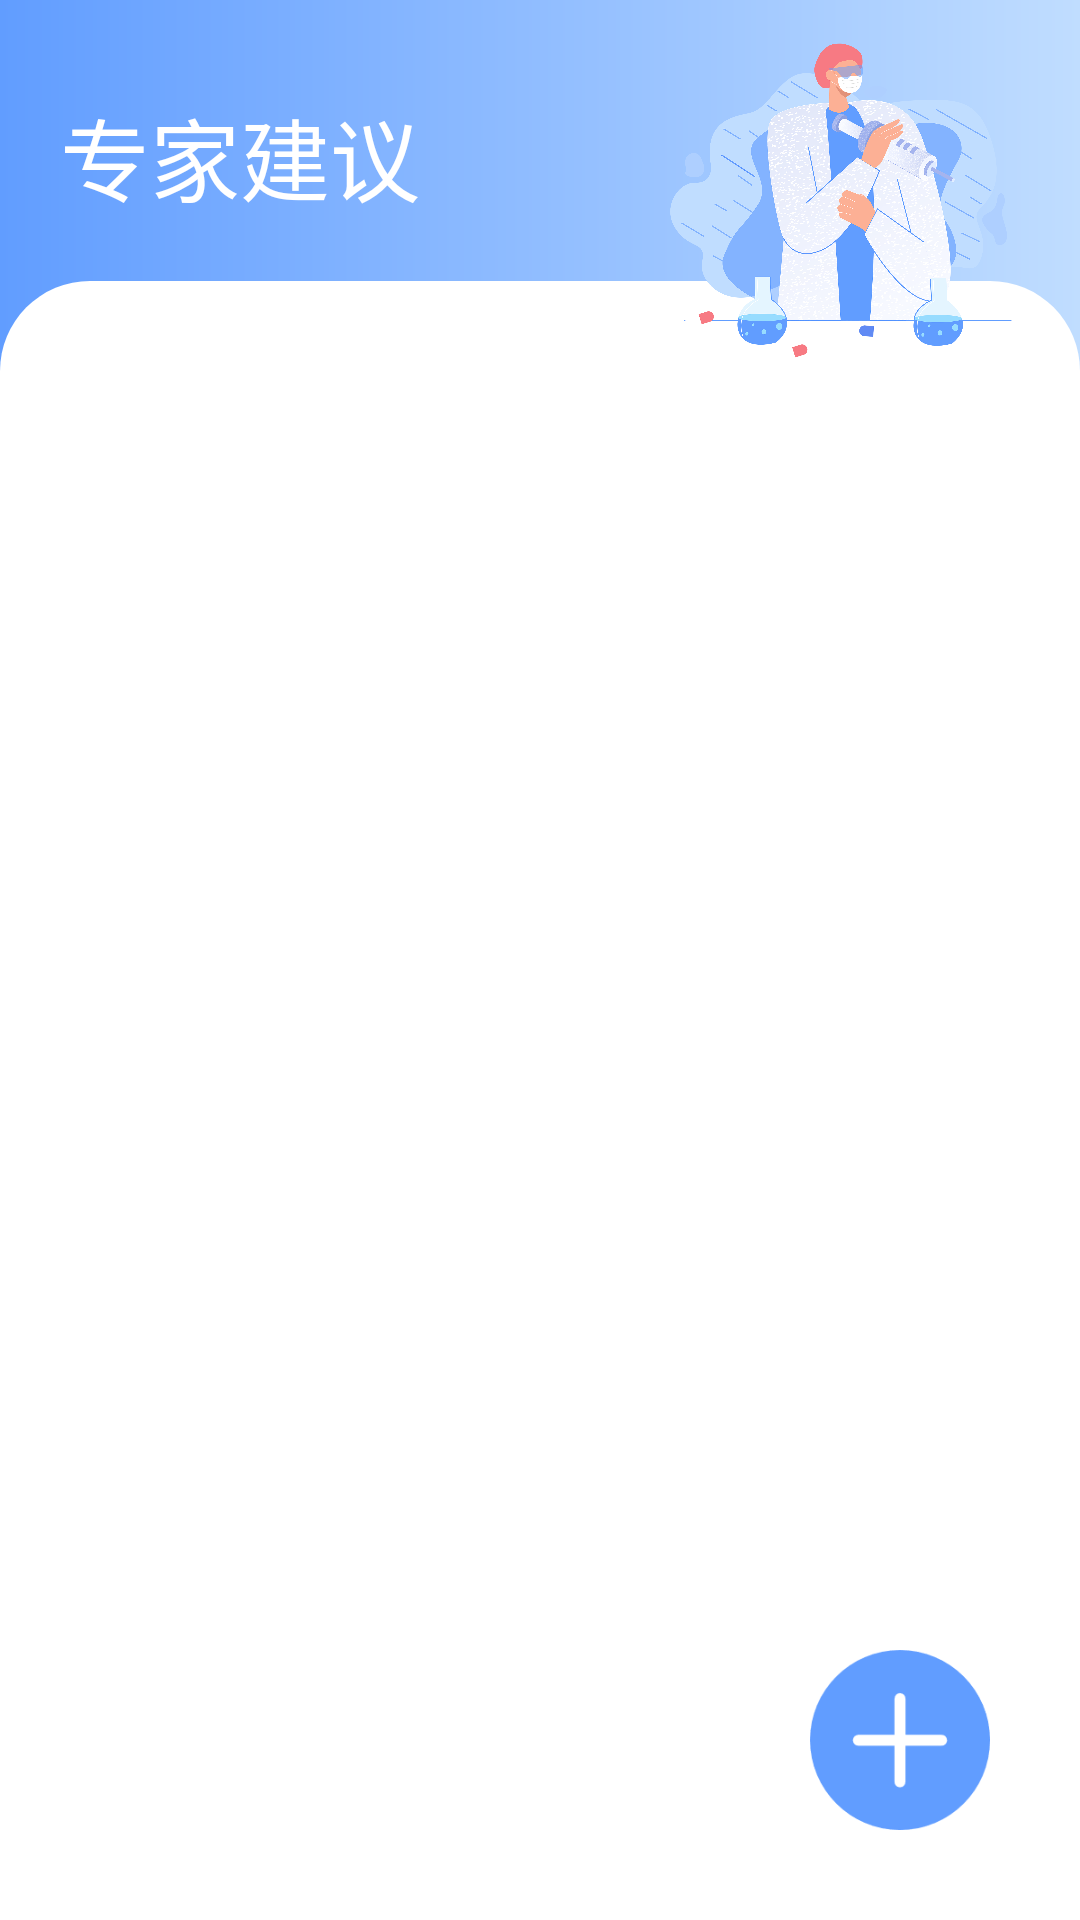

Point at icon controls on the screen. Image size 1080*1920, points as (x,y).
fabu pro: (900,1740)
pic professor: (840,210)
